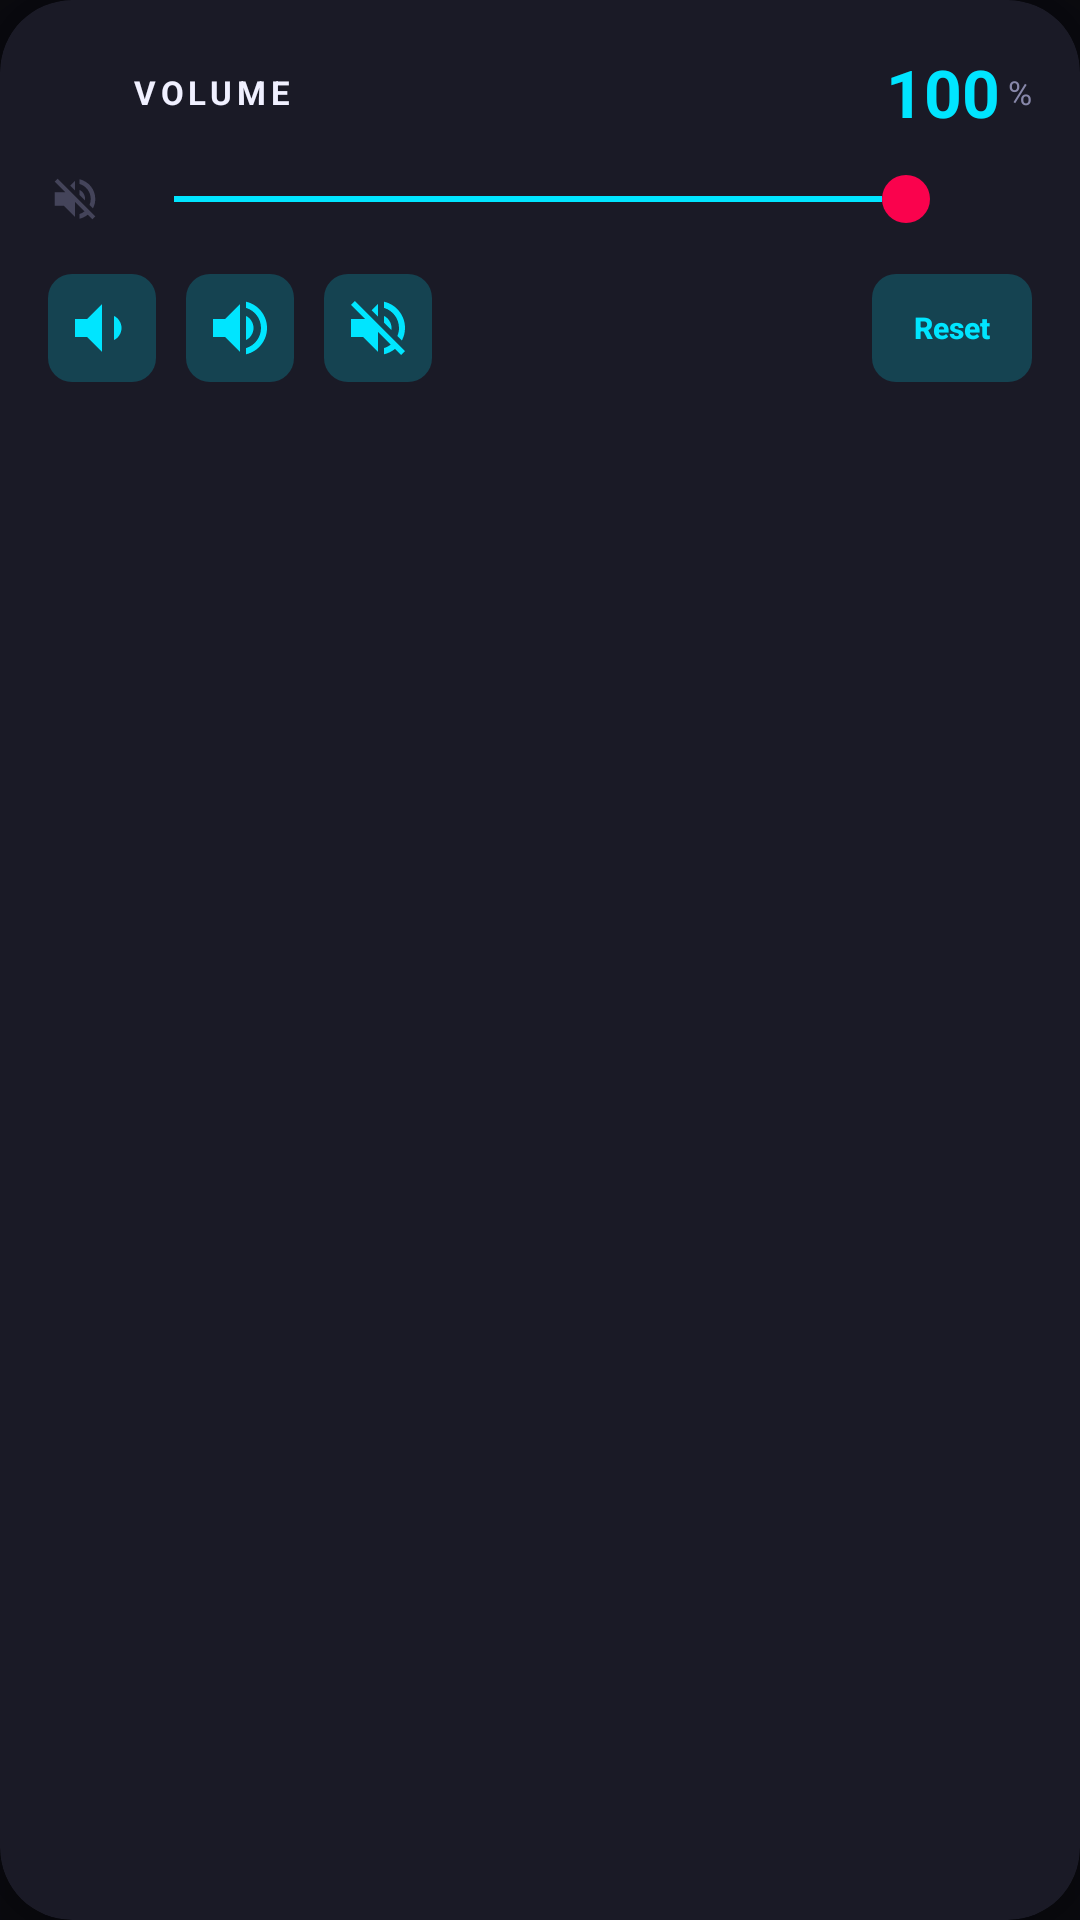

Screen size 1080*1920. Icon name, then its center in pixels as (x,y):
Mute: (378,328)
Volume Down: (102,328)
Volume Up: (240,328)
